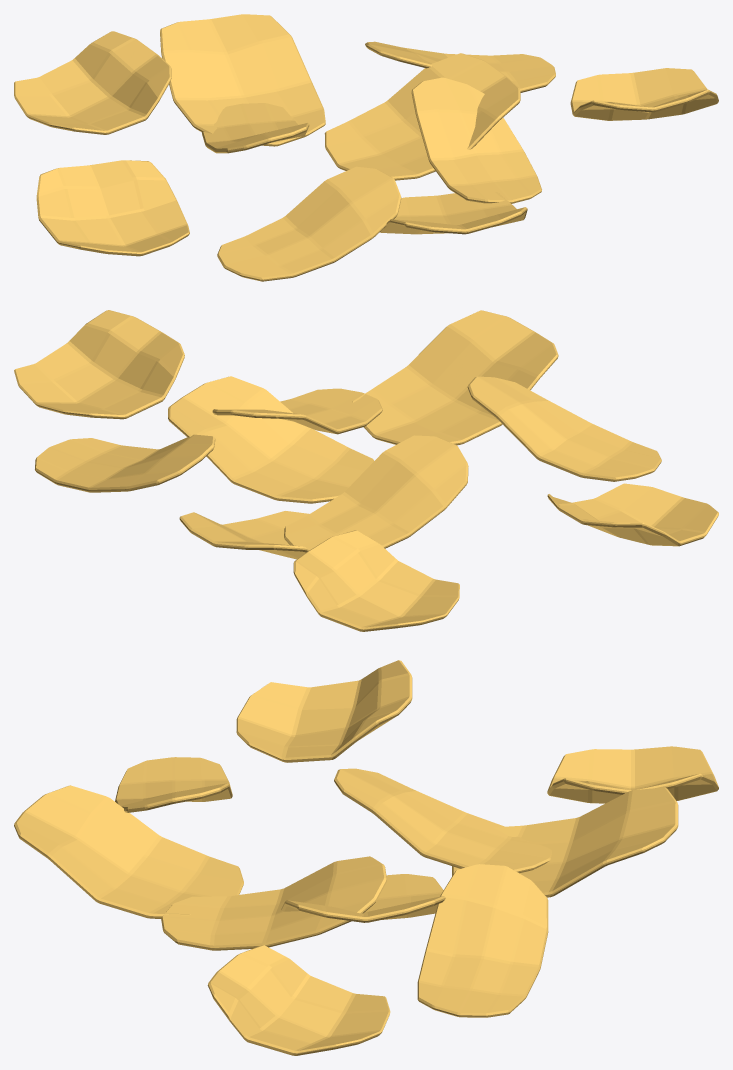
Rendered from chips_1_partyassets.fbx.
3 views of the same model, one above another, from view 1: azimuth 30°, elevation 25°; view 2: azimuth 150°, elevation 25°; view 3: azimuth 270°, elevation 25° (orthographic). The views are drawn at different scales.
Parts seen in each view (by area): view 1: chips_1_partyassets; view 2: chips_1_partyassets; view 3: chips_1_partyassets.
Boxes of the visible parts, x1,y1,x2,y2 form: chips_1_partyassets: (14,14,718,281); chips_1_partyassets: (14,310,718,631); chips_1_partyassets: (14,660,718,1055).
Bounding box in the file's own units: 38.04 × 3.38 × 30.93.
